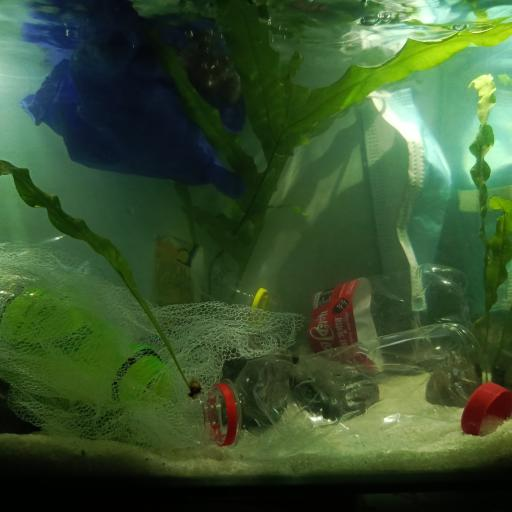bottle_cap: (461, 380, 512, 434)
glove: (24, 16, 254, 200)
mask: (359, 84, 453, 313)
net: (0, 237, 302, 454)
plastic_bottle: (197, 319, 491, 447), (0, 268, 170, 409), (45, 232, 277, 327), (287, 264, 476, 366)
